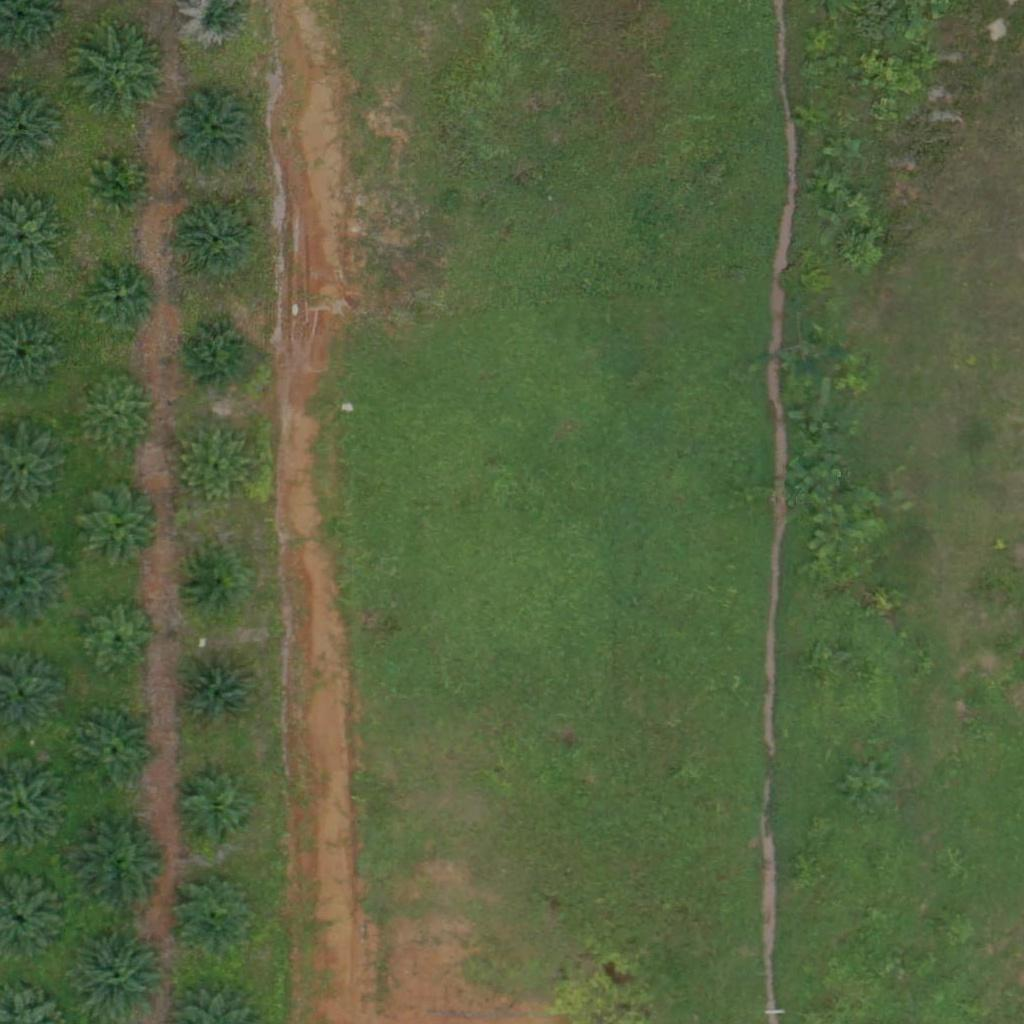Kelapa_Sawit: (72, 23, 172, 123), (69, 815, 169, 915), (171, 770, 259, 858), (170, 87, 258, 175), (171, 198, 259, 286), (74, 707, 162, 795), (72, 479, 159, 567), (175, 651, 262, 739), (171, 871, 258, 959), (85, 263, 160, 338), (83, 605, 158, 680), (175, 426, 250, 501), (182, 318, 257, 393), (77, 374, 152, 449), (180, 549, 243, 612), (87, 158, 150, 221)
